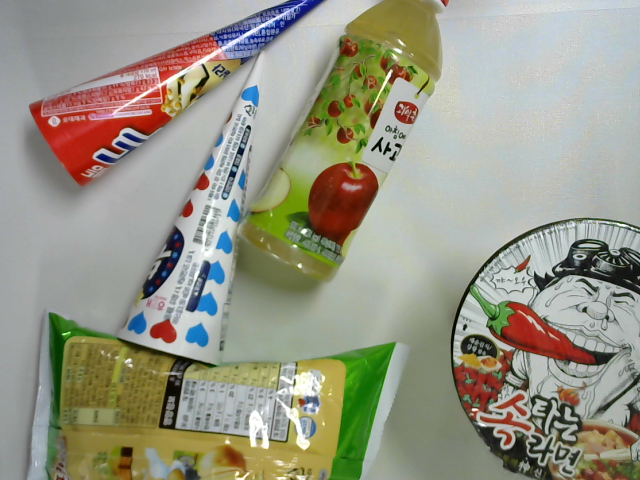Bravo_Cone_(Banila)_CVS: (116, 51, 267, 364)
HeJangsock: (447, 217, 640, 480)
Morning_Apple_500ml: (235, 1, 455, 285)
Pocachip_Onion: (21, 306, 414, 480)
World_Cone_Banila: (26, 1, 326, 188)
